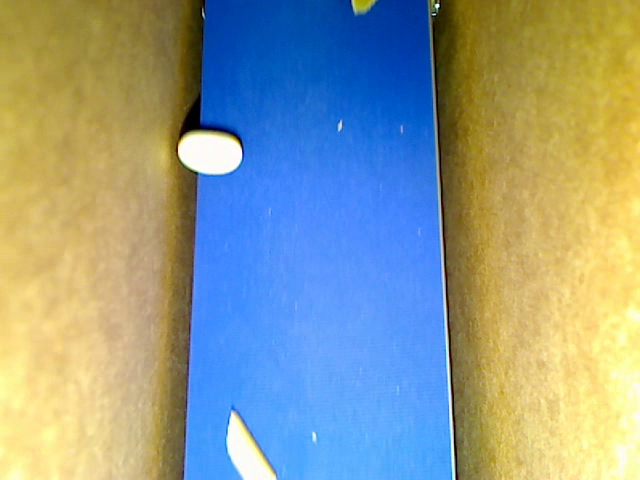penne: (226, 407, 275, 479)
